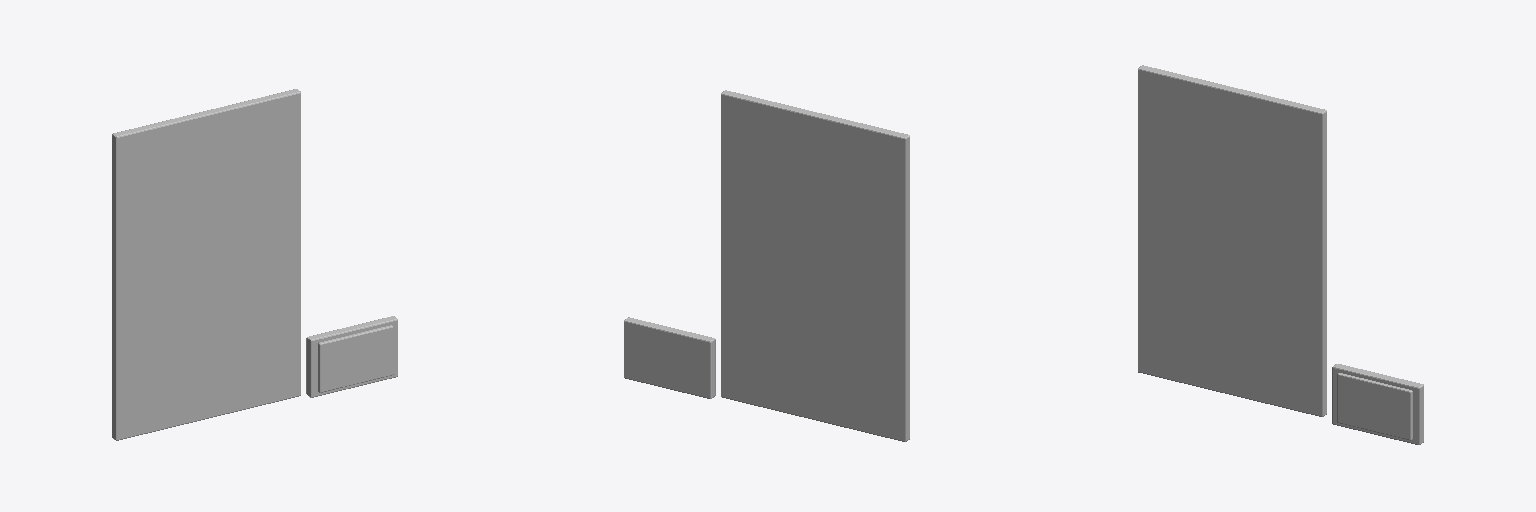
Rendered from Billede.obj.
3 renders of one model, left to right at view 1: azimuth 30°, elevation 25°; view 2: azimuth 150°, elevation 25°; view 3: azimuth 330°, elevation 25°, orthographic.
Parts seen in each view (by area): view 1: Billede:Box110, Billede:Box112, Billede:Box111; view 2: Billede:Box110, Billede:Box111; view 3: Billede:Box110, Billede:Box112, Billede:Box111.
Part boxes in pixels (x1,y1,x2,y2): Billede:Box110: (112, 89, 300, 440); Billede:Box112: (318, 325, 393, 392); Billede:Box111: (306, 316, 397, 397); Billede:Box110: (721, 90, 909, 441); Billede:Box111: (624, 317, 715, 398); Billede:Box110: (1138, 65, 1326, 416); Billede:Box112: (1337, 373, 1412, 440); Billede:Box111: (1332, 364, 1423, 444).
Bounding box in the file's own units: 408 × 426 × 17.09.